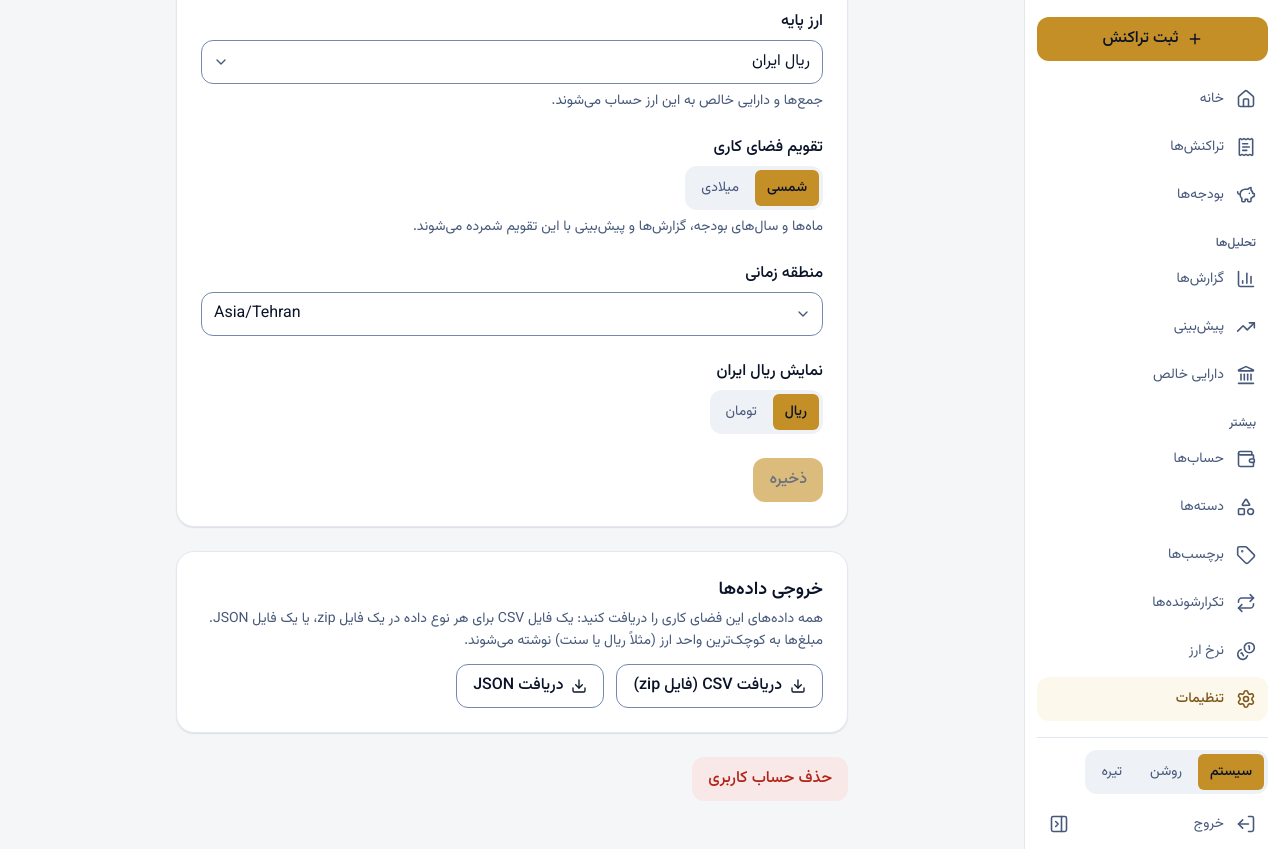
Delete account page › opens from Settings and lists the Workspaces deleted with the account
This screenshot has width=1280, height=849.
(page scrolled)
Click the link "حذف حساب کاربری" at (770, 779), box [692,757,848,801]
(page scrolled)
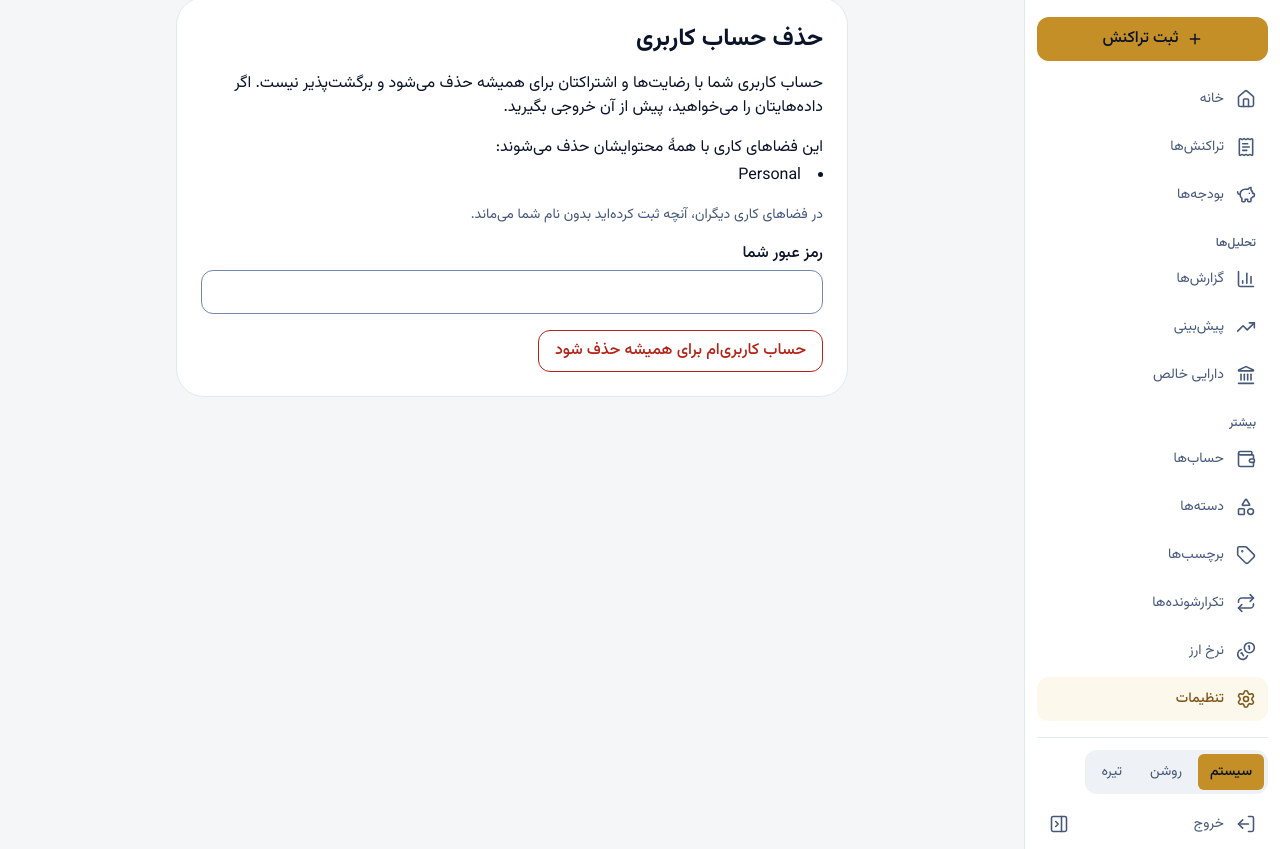
Result: the text "این فضاهای کاری با همهٔ محتوایشان حذف می‌شوند:" is shown at [496,135,823,160]
Result: the list item "Personal" is shown at [738,163,801,188]
